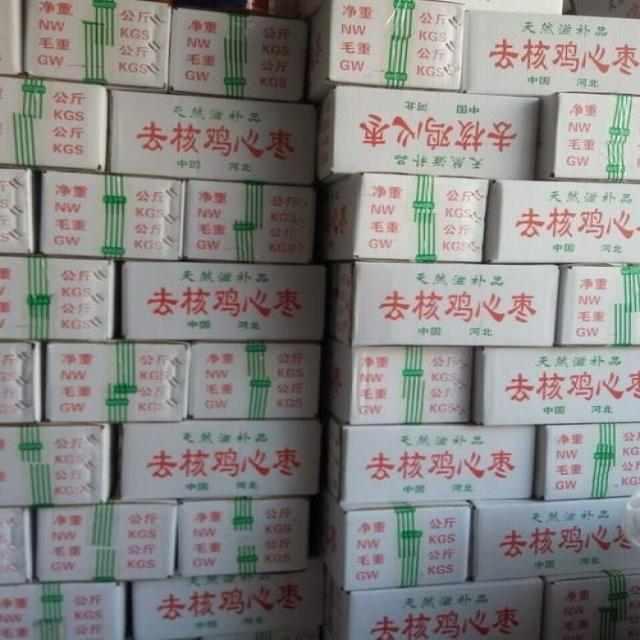box: (313, 84, 542, 184), (108, 88, 315, 184), (324, 262, 563, 345), (126, 541, 327, 639), (321, 415, 541, 501), (325, 557, 545, 637), (113, 420, 325, 502), (114, 260, 328, 341), (307, 2, 468, 103), (324, 486, 474, 591), (316, 173, 493, 260), (464, 12, 639, 96), (468, 497, 639, 581), (37, 168, 189, 262), (22, 0, 175, 92), (319, 338, 479, 425), (482, 179, 639, 264), (477, 344, 639, 425), (171, 10, 310, 102), (42, 341, 191, 422), (31, 500, 178, 581), (184, 179, 321, 264), (0, 76, 110, 174), (175, 496, 311, 575), (189, 340, 320, 419), (1, 253, 117, 340), (0, 426, 115, 508), (536, 95, 639, 181), (534, 424, 639, 498), (1, 581, 131, 638), (557, 265, 639, 345), (544, 570, 639, 639), (0, 339, 44, 425), (1, 165, 42, 255), (173, 1, 332, 21), (0, 505, 34, 583), (433, 0, 562, 19), (0, 2, 24, 77), (562, 1, 639, 21)
